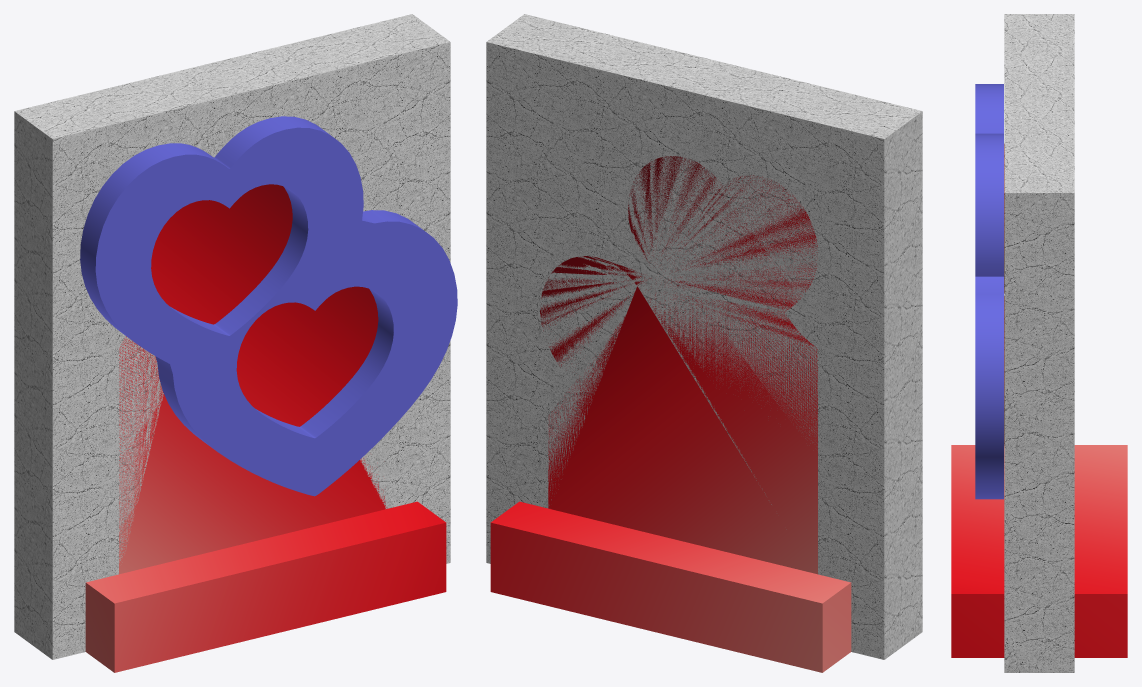
Rendered from Graves.fbx.
The picture shows the model from 3 angles, left to right: view 1: azimuth 30°, elevation 25°; view 2: azimuth 150°, elevation 25°; view 3: azimuth 270°, elevation 25°; orthographic projection. The views are drawn at different scales.
Visible parts, largest first — view 1: G1 Block, G1 Stencil, G1, Base; view 2: G1 Block, G1, Base; view 3: G1 Block, Base, G1 Stencil, G1.
Part boxes in pixels (x1,y1,x2,y2): G1 Block: (14,14,450,659); G1 Stencil: (80,116,457,496); G1: (119,184,387,574); Base: (85,501,446,672); G1 Block: (486,14,922,659); G1: (540,156,817,574); Base: (490,501,851,672); G1 Block: (1004,14,1074,672); Base: (951,445,1127,657); G1 Stencil: (975,84,1003,499); G1: (1004,144,1004,445).
Size of the model in its own units: 240 by 300 by 100.
3 materials, 2 textured.
